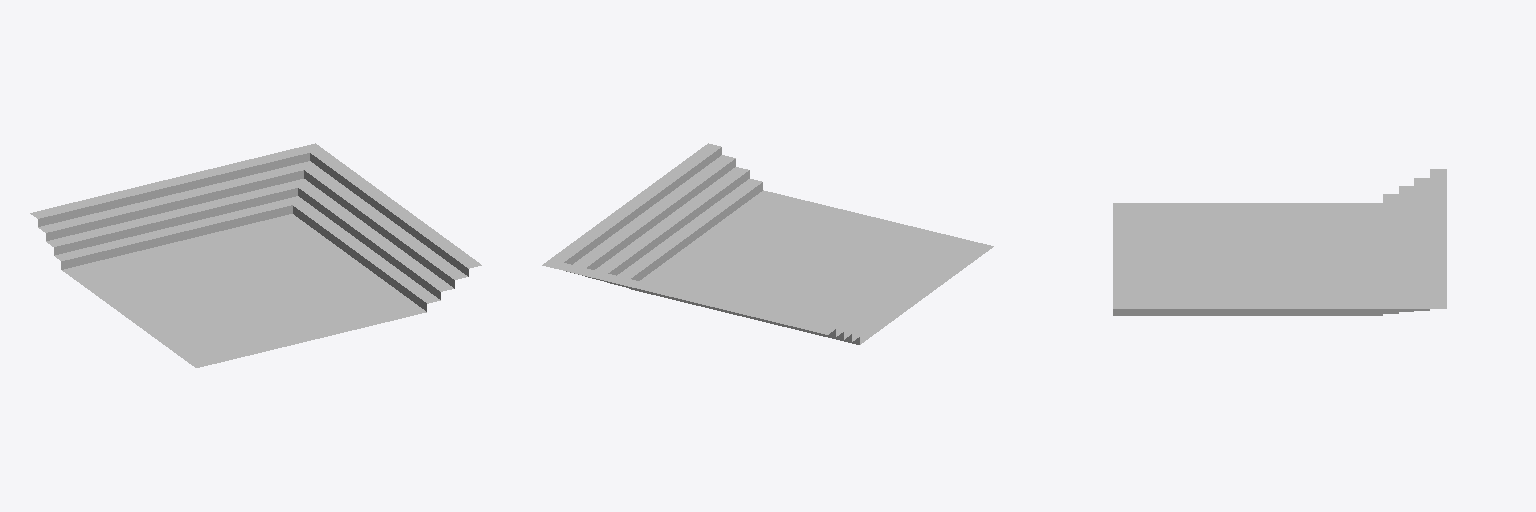
File: flooring_downstairs_corner.obj
3 renders of one model, left to right at view 1: azimuth 30°, elevation 25°; view 2: azimuth 150°, elevation 25°; view 3: azimuth 270°, elevation 25°, orthographic.
Visible parts, largest first — view 1: Plane.002; view 2: Plane.002; view 3: Plane.002.
Part boxes in pixels (x1,y1,x2,y2): Plane.002: (30,143,481,367); Plane.002: (542,143,993,344); Plane.002: (1113,169,1446,315).
Size of the model in its own units: 50.44 by 5.64 by 50.87.